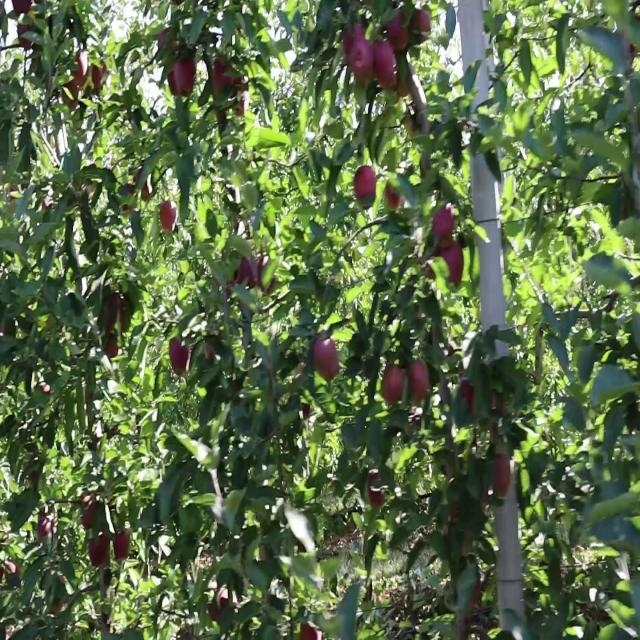apple: (344, 28, 374, 84), (433, 241, 464, 286), (212, 56, 243, 98), (312, 341, 340, 384), (172, 56, 198, 98), (408, 362, 431, 405), (432, 206, 456, 247), (376, 42, 396, 91), (352, 42, 374, 85), (492, 455, 513, 500), (444, 241, 464, 286), (388, 14, 411, 52), (128, 170, 152, 206), (356, 163, 377, 204), (208, 590, 231, 624), (88, 533, 109, 569), (384, 369, 405, 405), (236, 255, 256, 292), (172, 341, 192, 377), (132, 170, 152, 206), (260, 255, 276, 299), (108, 298, 127, 334), (412, 7, 432, 41), (156, 28, 179, 57), (396, 63, 413, 100), (160, 199, 177, 235), (72, 49, 88, 87), (460, 383, 477, 418), (368, 476, 385, 510), (80, 497, 97, 530), (64, 78, 80, 112), (384, 184, 403, 212), (168, 63, 181, 100), (468, 583, 482, 617), (116, 533, 132, 562), (92, 63, 108, 92), (208, 334, 223, 363), (492, 391, 506, 418), (40, 519, 56, 542), (104, 341, 120, 361), (20, 28, 34, 50), (300, 625, 322, 639), (4, 561, 20, 580), (16, 0, 32, 16), (16, 0, 32, 16), (28, 469, 37, 485), (208, 341, 214, 363), (4, 327, 8, 334)
